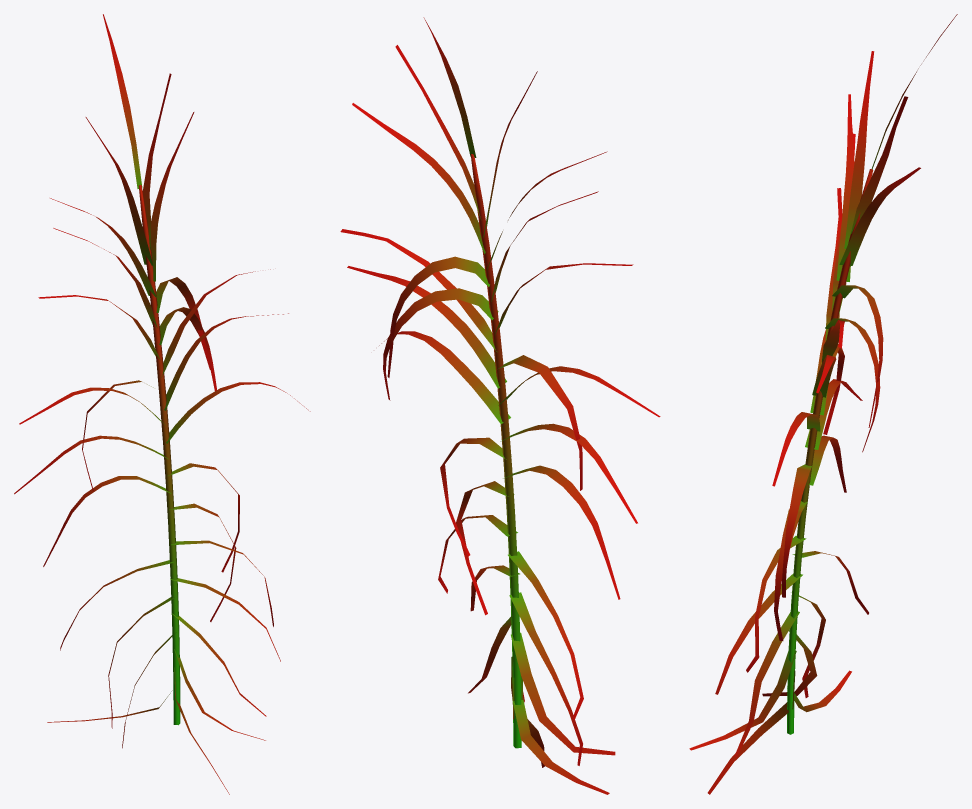
File: Giant Reed_LOD1_Var5_sjllX.fbx
3 renders of one model, left to right at view 1: azimuth 30°, elevation 25°; view 2: azimuth 150°, elevation 25°; view 3: azimuth 270°, elevation 25°, orthographic. The views are drawn at different scales.
Parts seen in each view (by area): view 1: _e12e_Var5_LOD1; view 2: _e12e_Var5_LOD1; view 3: _e12e_Var5_LOD1.
Boxes of the visible parts, bbox=[...] form: _e12e_Var5_LOD1: bbox=[14, 14, 310, 794]; _e12e_Var5_LOD1: bbox=[340, 17, 660, 794]; _e12e_Var5_LOD1: bbox=[689, 14, 957, 794].
Bounding box in the file's own units: 93.4 × 237 × 74.69.
